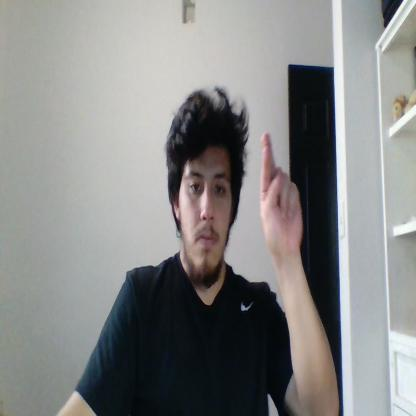R: (262, 134, 302, 257)
